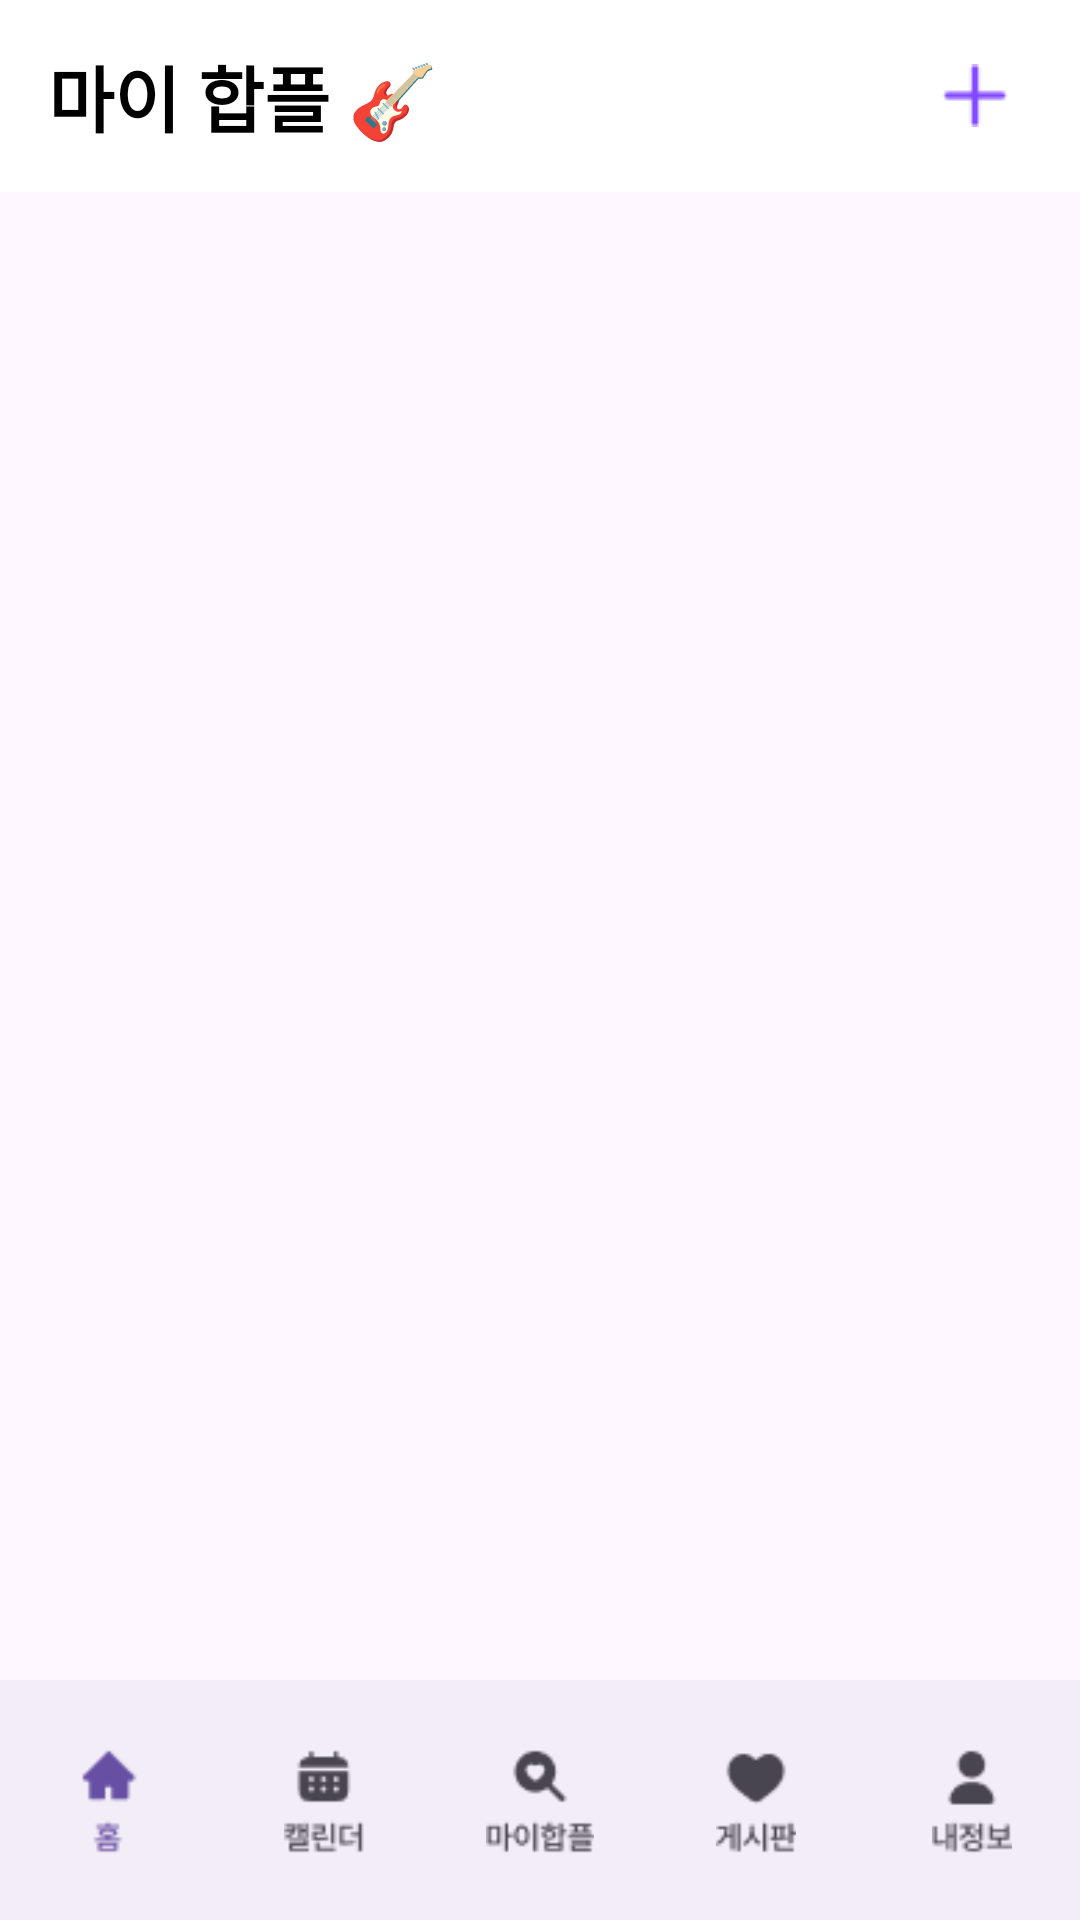

Named icons in this screenshot (1080w x 1920h) and their bounding boxes, (x1, y1, x2, y2):
밴드 추가: (944, 64, 1006, 127)
